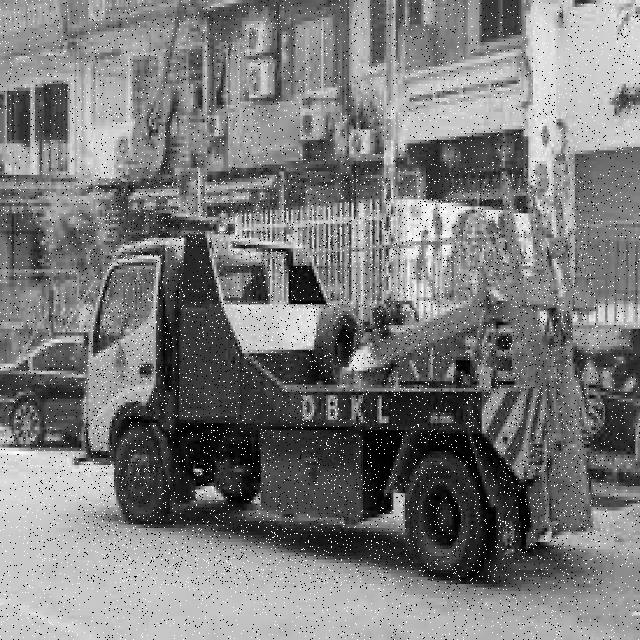Tow Truck: (84, 175, 598, 584)
